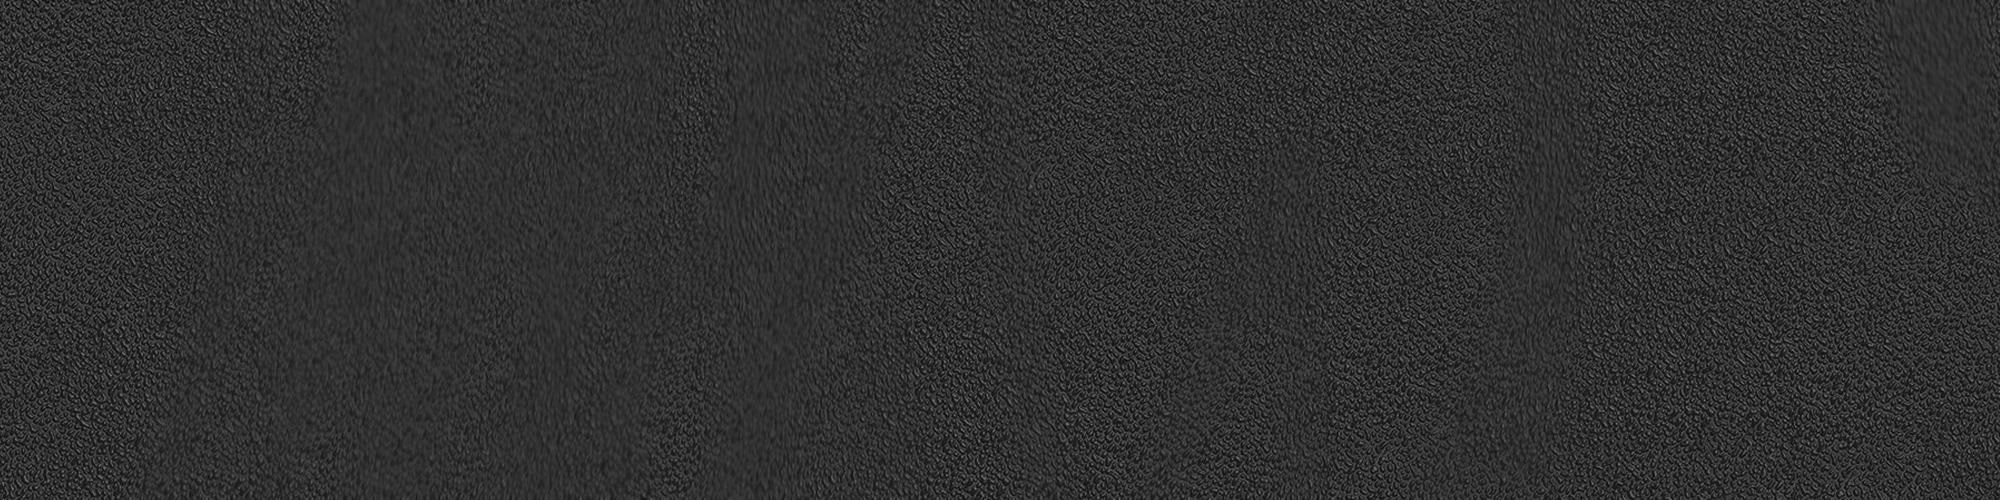Flow_Lines: (214, 18, 832, 482), (1452, 27, 1626, 492)
